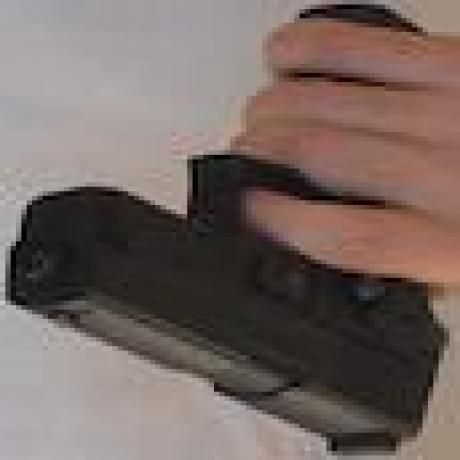1: (220, 27, 460, 305)
weapon: (9, 8, 446, 452)
